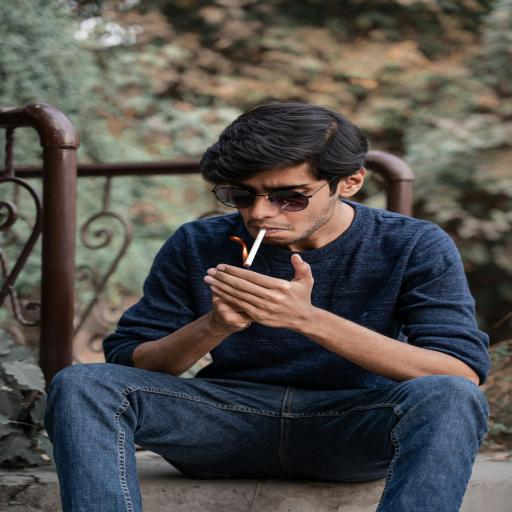dataset-deteksi-merokok: (205, 164, 319, 285)
